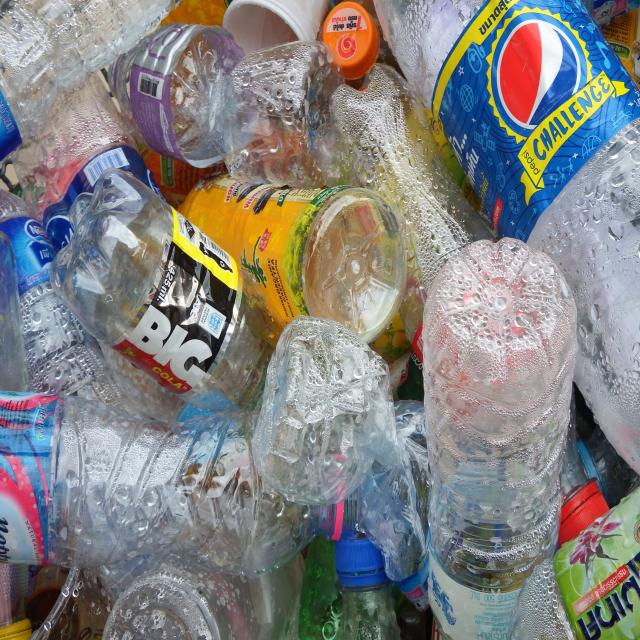plastic: (108, 54, 524, 527)
